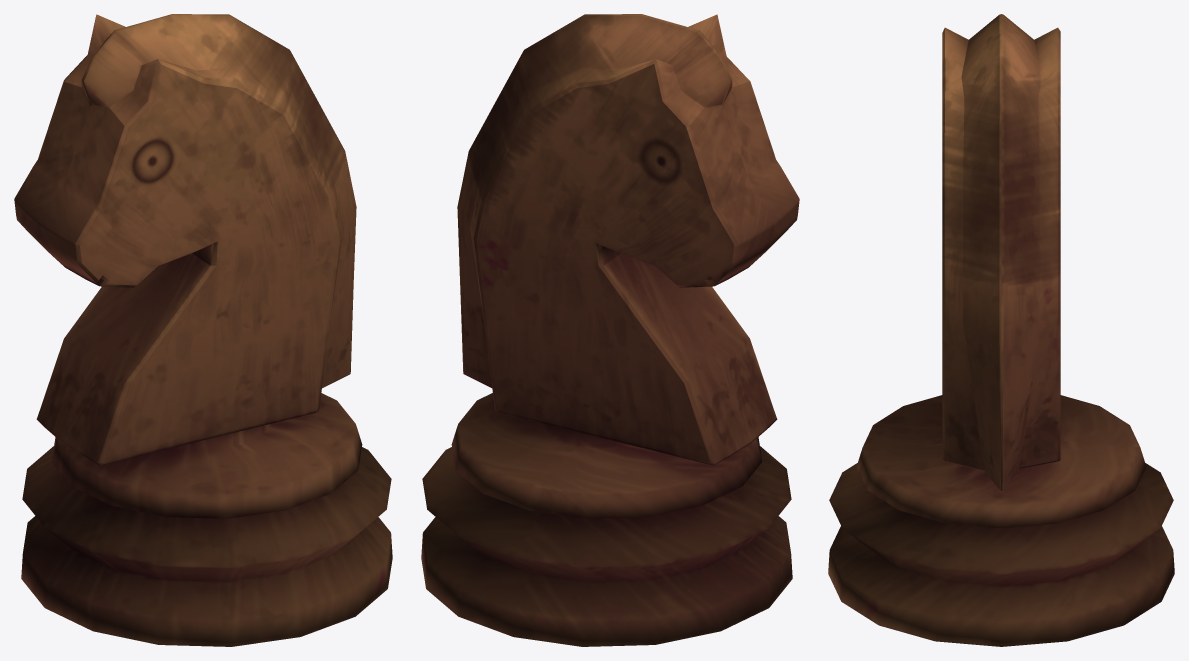
Rendered from knight.glb.
3 views of the same model, side by side, from view 1: azimuth 30°, elevation 25°; view 2: azimuth 150°, elevation 25°; view 3: azimuth 270°, elevation 25° (orthographic). The views are drawn at different scales.
Visible parts, largest first — view 1: Knight_2_Light; view 2: Knight_2_Light; view 3: Knight_2_Light.
Part boxes in pixels (left/top/right/bottom): Knight_2_Light: left=14, top=14, right=392, bottom=646; Knight_2_Light: left=421, top=14, right=799, bottom=646; Knight_2_Light: left=828, top=14, right=1174, bottom=646.
Bounding box in the file's own units: 0.0945 × 0.1541 × 0.093.
Materials: 1 (1 with a texture image).
